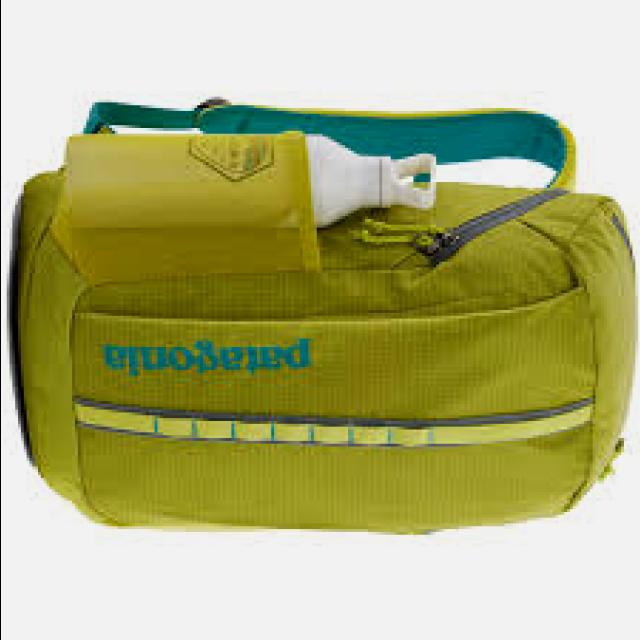backpack: (15, 98, 640, 536)
